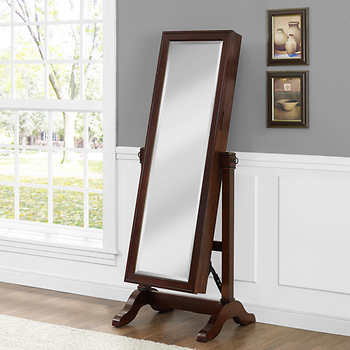Nonrec_Glass: (121, 23, 234, 301)
